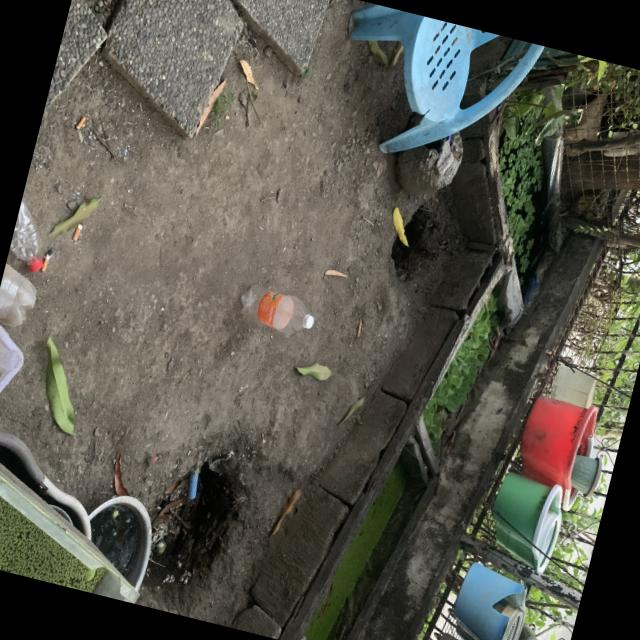Bottle: (240, 285, 313, 334)
